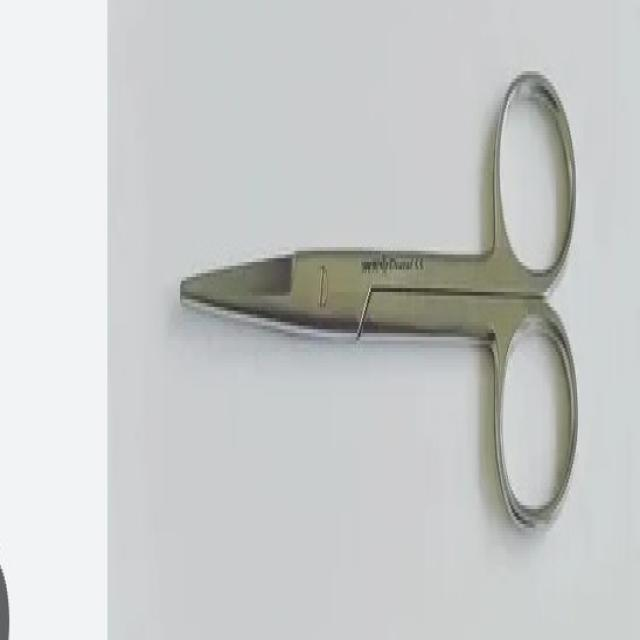Straight Mayo: (174, 59, 582, 532)
